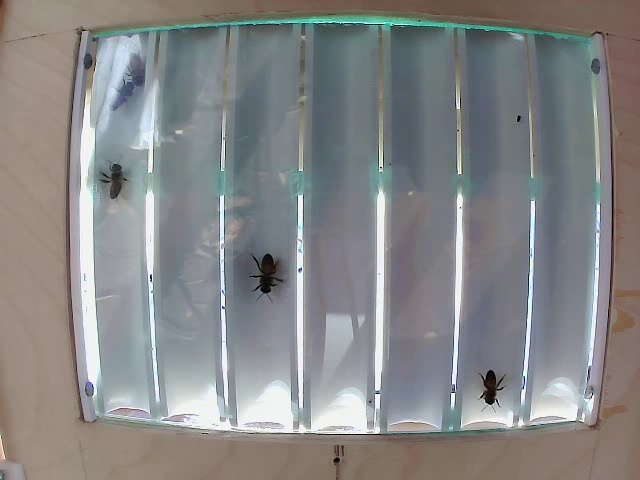bee: (95, 166, 147, 207), (261, 253, 297, 305), (107, 69, 143, 116), (468, 360, 501, 401)
